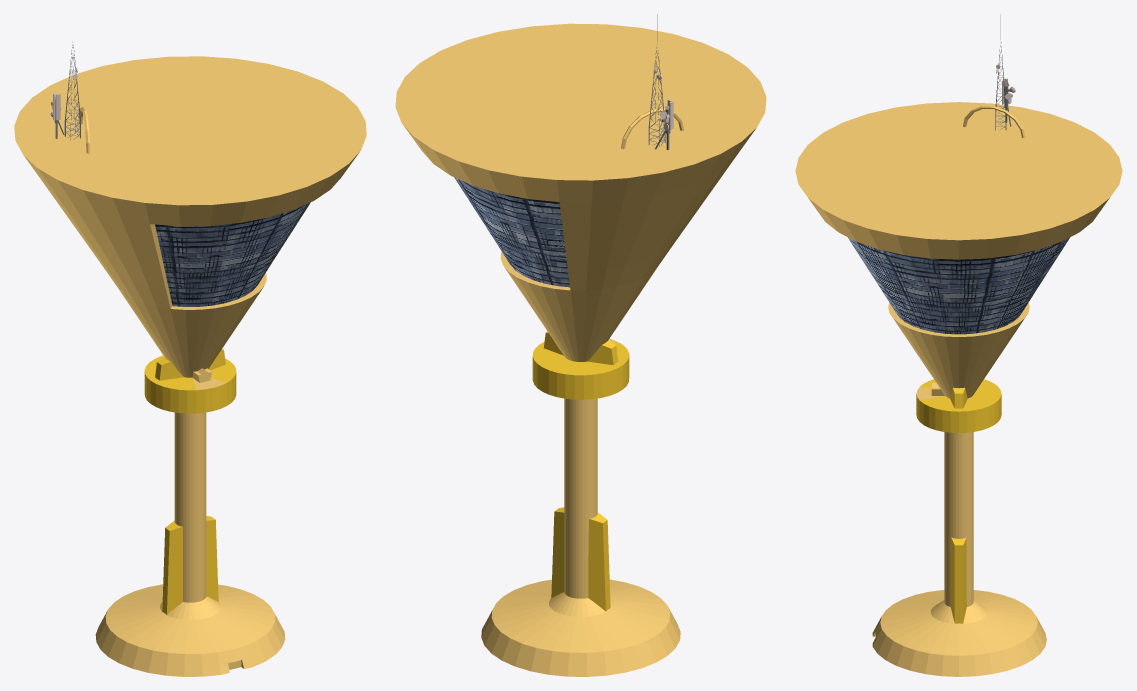
The model's file is Yoink Express Building.fbx.
3 views of the same model, side by side, from view 1: azimuth 30°, elevation 25°; view 2: azimuth 150°, elevation 25°; view 3: azimuth 270°, elevation 25° (orthographic). The views are drawn at different scales.
Visible parts, largest first — view 1: Cylinder; view 2: Cylinder; view 3: Cylinder.
Part boxes in pixels (x1=…): Cylinder: x1=14, y1=44, x2=366, y2=676; Cylinder: x1=395, y1=14, x2=766, y2=676; Cylinder: x1=795, y1=14, x2=1122, y2=676.
Bounding box in the file's own units: 22142 × 43532 × 22142.
